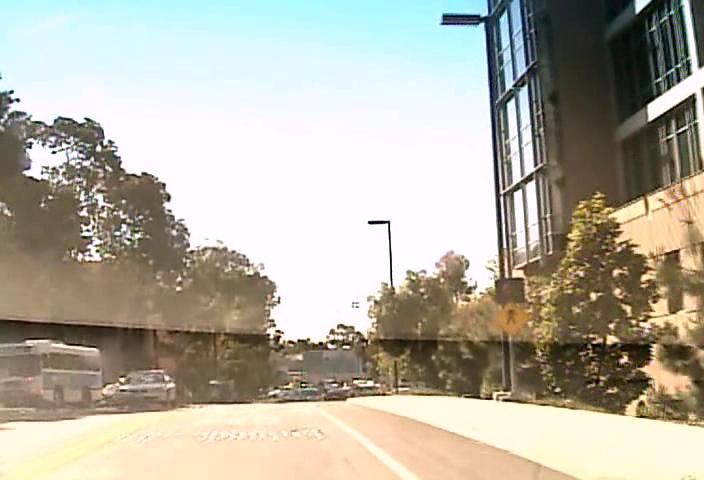pedestrianCrossing: (491, 299, 529, 336)
